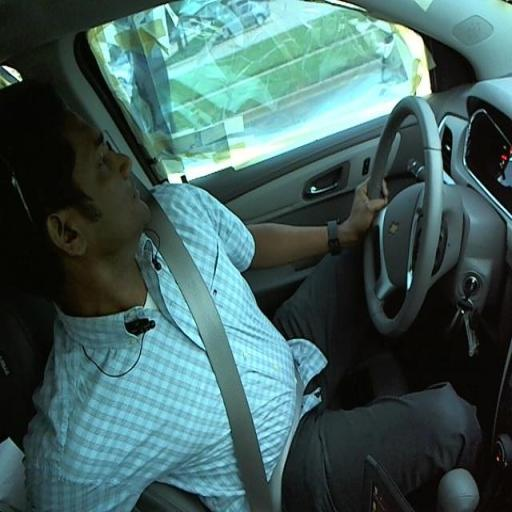turning: (2, 86, 448, 452)
